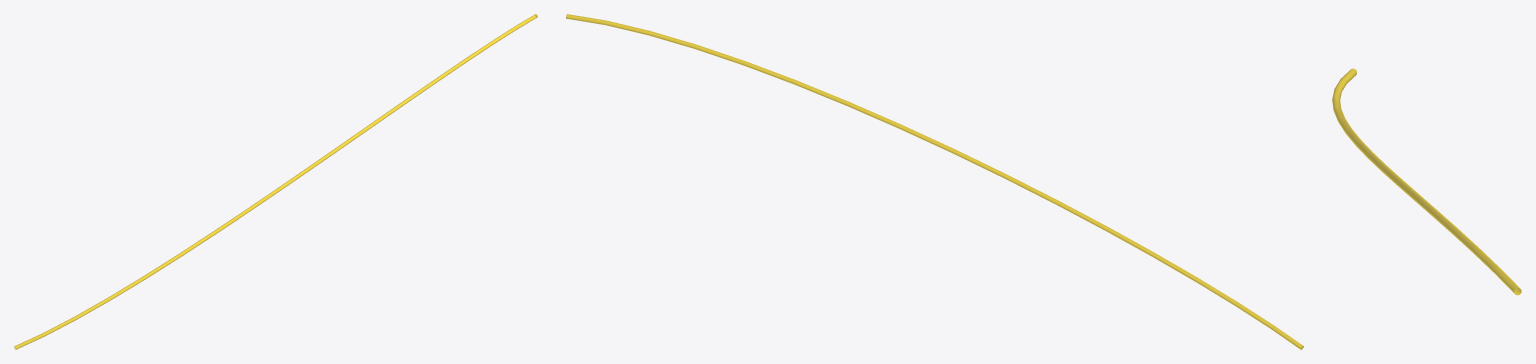
Rendered from Event_75125125_track_48.fbx.
3 renders of one model, left to right at view 1: azimuth 30°, elevation 25°; view 2: azimuth 150°, elevation 25°; view 3: azimuth 270°, elevation 25°, orthographic. The views are drawn at different scales.
Parts seen in each view (by area): view 1: Model; view 2: Model; view 3: Model.
Part boxes in pixels (bbox=[...]): Model: bbox=[14, 14, 537, 349]; Model: bbox=[566, 14, 1303, 349]; Model: bbox=[1332, 68, 1521, 295].
Size of the model in its own units: 6.59 by 1.88 by 0.9589.
